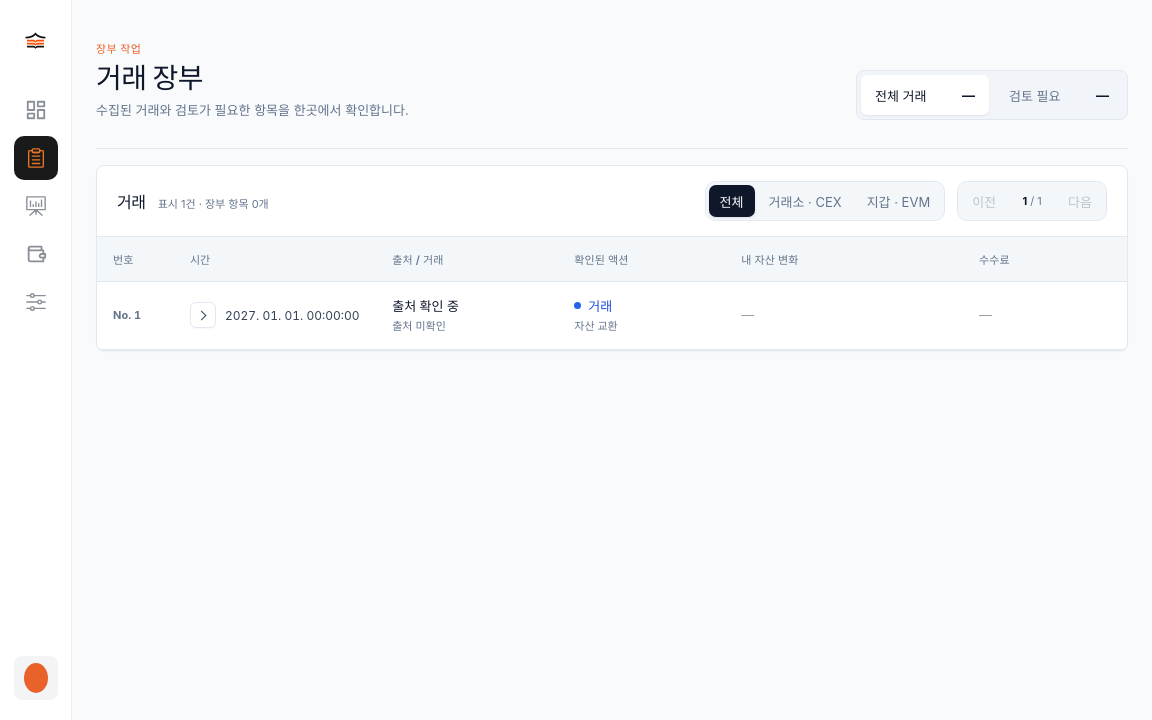
it: LedgerPage › toggles the transaction detail from anywhere in the row, not only the toggle control
What coordinates should you click on to do the following:
click the text "2027. 01. 01. 00:00:00"
I would click on:
 (293, 316)
Its box is [225,307,360,324].
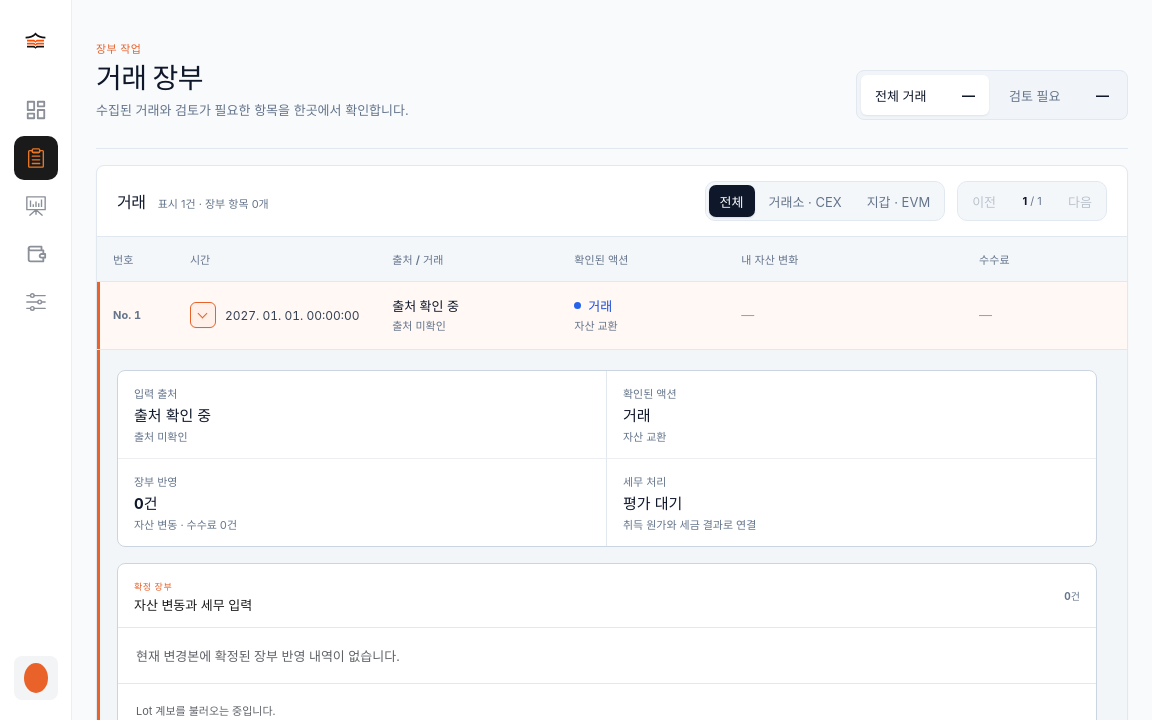
expect the heading "자산 변동과 세무 입력" is shown: met, box [134,595,252,614]
expect the button named "거래 거래 상세 접기" is expanded: met, box [190,302,216,328]
What coordinates should you click on to do the following:
click the text "2027. 01. 01. 00:00:00"
I would click on:
 (293, 316)
Its box is [225,307,360,324].
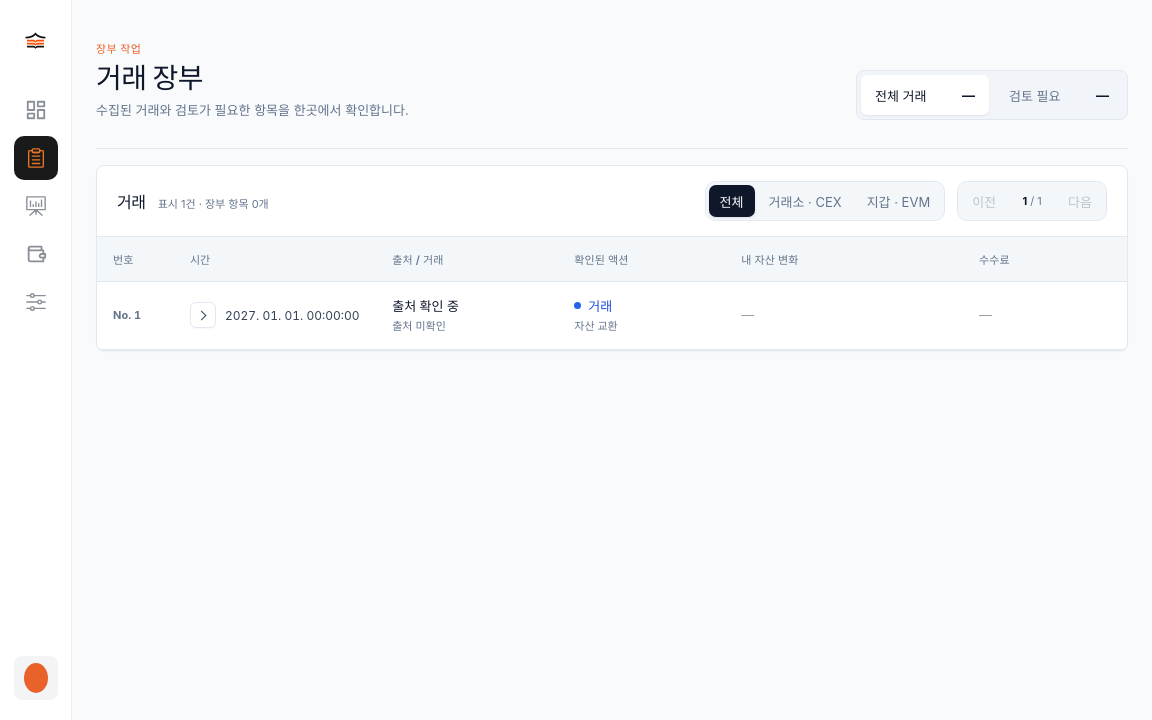
expect the heading "자산 변동과 세무 입력" is gone: met
expect the button named "거래 거래 상세 보기" is collapsed: met, box [190,302,216,328]
